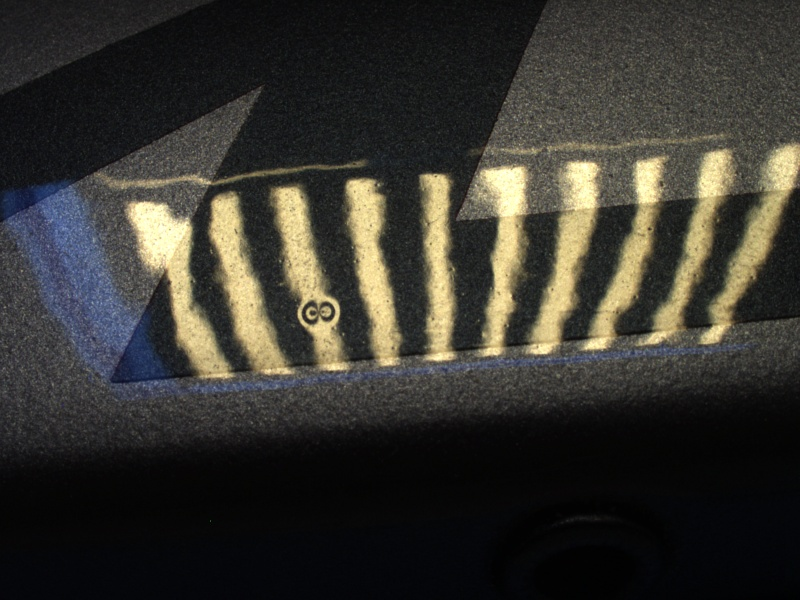bad: (292, 286, 344, 337)
